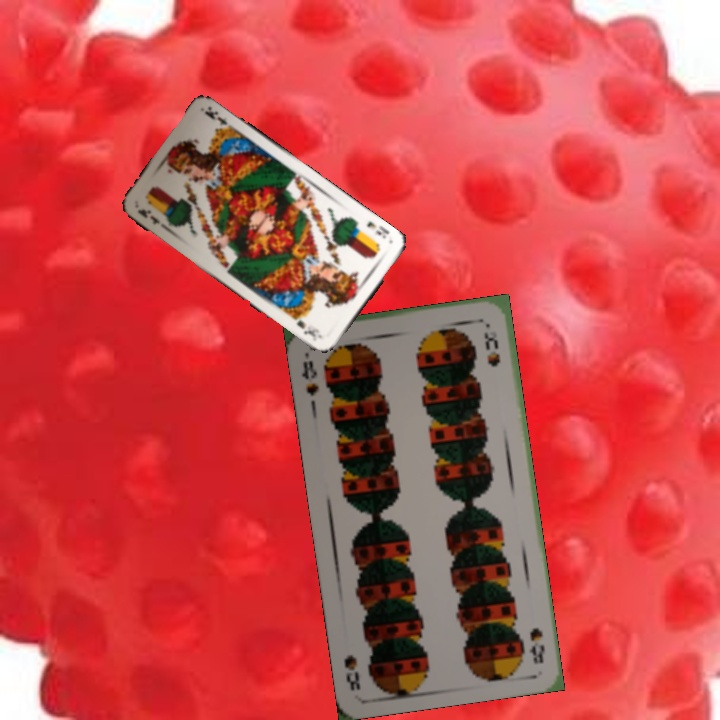EK: (134, 205, 168, 232), (363, 217, 392, 241)
S8: (297, 356, 322, 398), (525, 624, 548, 667)
